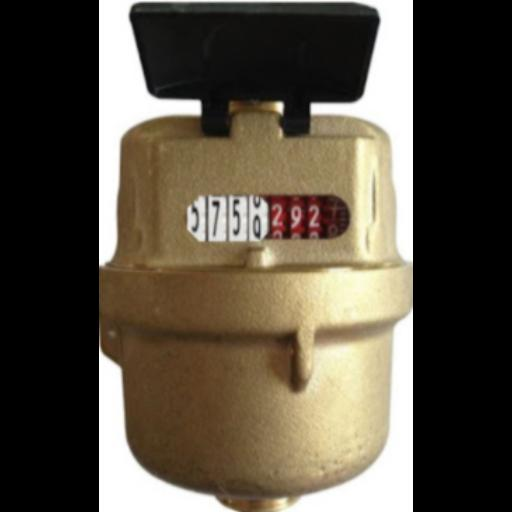2: (271, 196, 289, 241), (307, 197, 325, 240)
5: (186, 196, 206, 241), (230, 195, 248, 241)
7: (326, 196, 350, 241), (208, 195, 226, 241)
8: (249, 196, 269, 241)
9: (289, 196, 306, 241)
border_water_meter_number: (187, 194, 351, 242)
